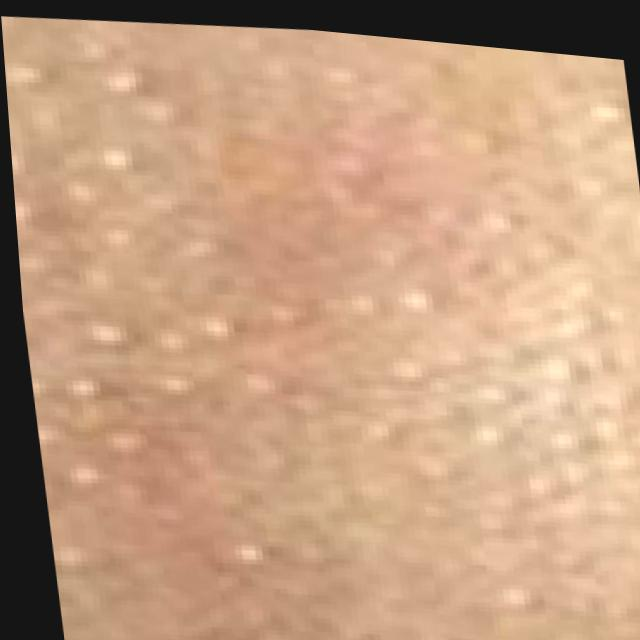whitehead: (3, 20, 640, 640)
